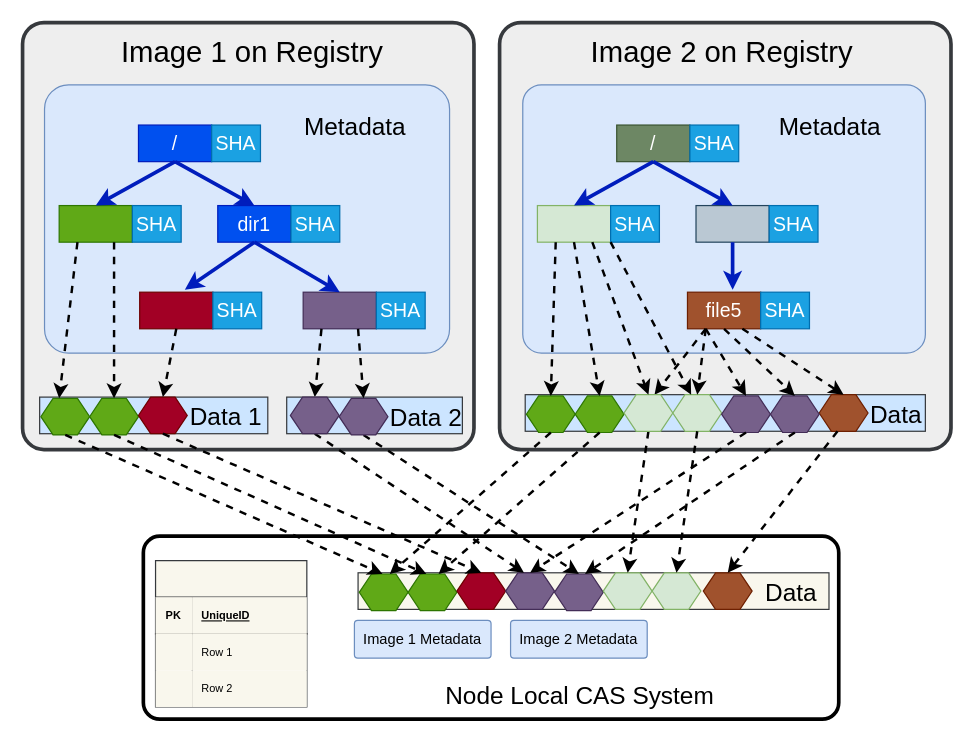
The diagram is 976 pixels wide and 742 high, and some of its shapes have lost their labels. Each missing label, with the box of its shape:
CAS Database: (154, 559, 307, 707)
dir2: (695, 204, 769, 242)
file1: (58, 204, 132, 242)
file2: (138, 291, 213, 329)
file3: (302, 291, 376, 329)
file4: (536, 204, 611, 242)
